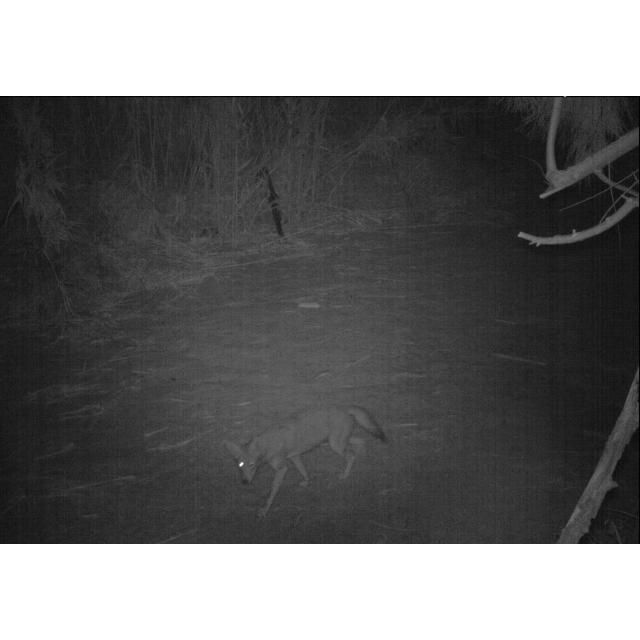animals: (226, 404, 386, 512)
